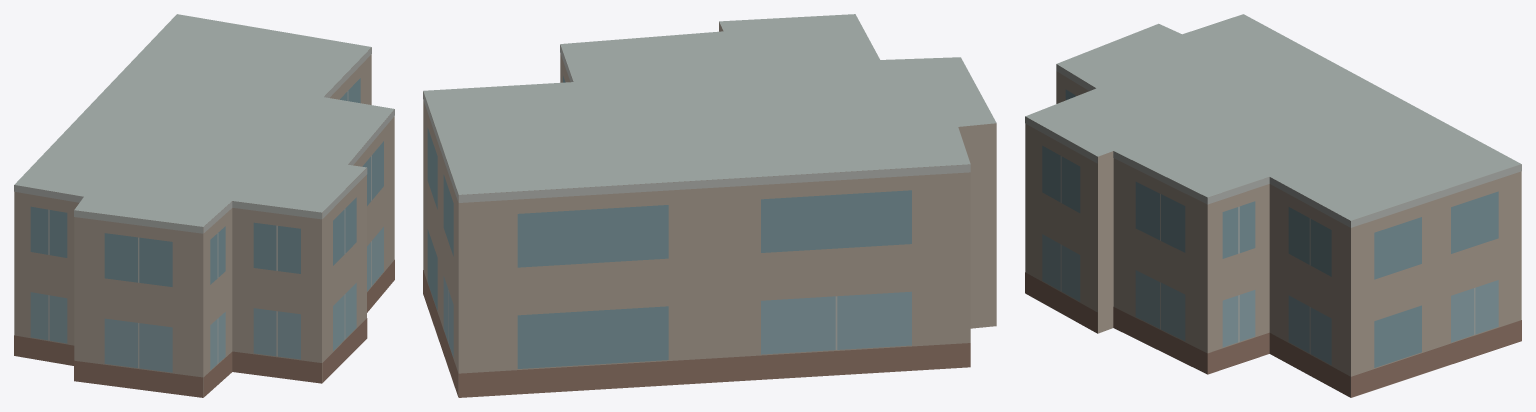
The model's file is survey-upis-32469571.glb.
3 views of the same model, side by side, from view 1: azimuth 30°, elevation 25°; view 2: azimuth 150°, elevation 25°; view 3: azimuth 270°, elevation 25° (orthographic). The views are drawn at different scales.
Visible parts, largest first — view 1: survey-upis-32469571.tmp; view 2: survey-upis-32469571.tmp; view 3: survey-upis-32469571.tmp.
Boxes of the visible parts, bbox=[...] form: survey-upis-32469571.tmp: bbox=[14, 14, 394, 397]; survey-upis-32469571.tmp: bbox=[423, 14, 996, 397]; survey-upis-32469571.tmp: bbox=[1025, 14, 1521, 397].
Size of the model in its own units: 15.3 by 6.1 by 15.52.
